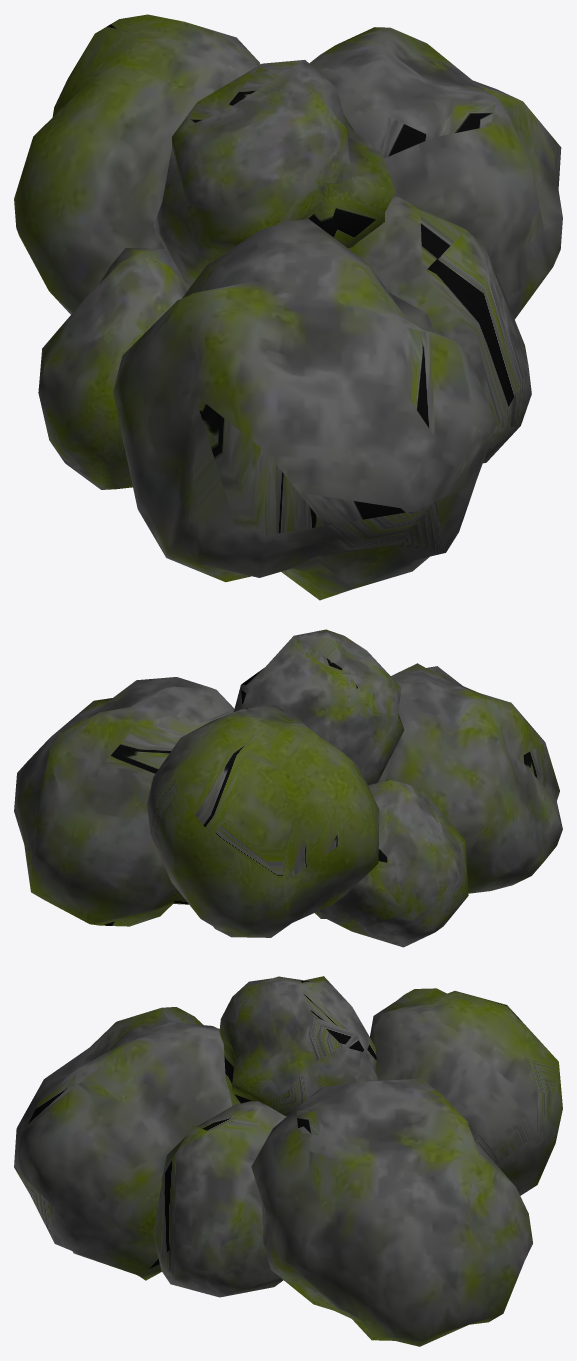
The model's file is boulder2.glb.
The picture shows the model from 3 angles, top to bottom: view 1: azimuth 30°, elevation 25°; view 2: azimuth 150°, elevation 25°; view 3: azimuth 270°, elevation 25°; orthographic projection. The views are drawn at different scales.
Parts seen in each view (by area): view 1: boulder2; view 2: boulder2; view 3: boulder2.
Part boxes in pixels (x1,y1,x2,y2): boulder2: (14,14,562,600); boulder2: (14,629,562,947); boulder2: (14,976,562,1346).
Bounding box in the file's own units: 5.17 × 3.7 × 5.82.
Materials: 1 (1 with a texture image).
